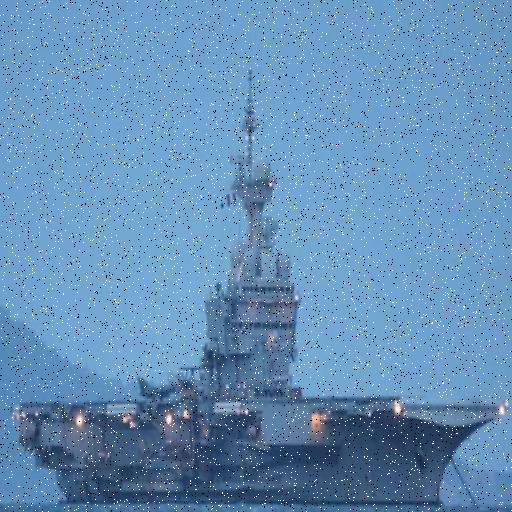Portanaves: (10, 60, 512, 512)
